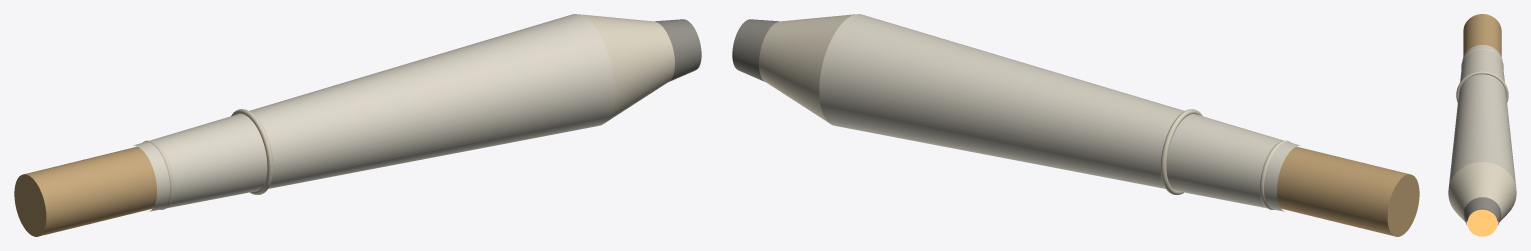
File: joint.glb
3 renders of one model, left to right at view 1: azimuth 30°, elevation 25°; view 2: azimuth 150°, elevation 25°; view 3: azimuth 270°, elevation 25°, orthographic. The views are drawn at different scales.
Visible parts, largest first — view 1: cone, crutch, twist, burnt_tip, crutch_end, paper_seam; view 2: cone, crutch, twist, burnt_tip, crutch_end, paper_seam; view 3: cone, twist, crutch, lit_tip_glow, burnt_tip, paper_seam, crutch_edge, lit_tip_rim.
Part boxes in pixels (x1=…): cone: x1=133, y1=14, x2=614, y2=211; crutch: x1=24, y1=146, x2=156, y2=235; twist: x1=579, y1=14, x2=674, y2=122; burnt_tip: x1=655, y1=19, x2=701, y2=81; crutch_end: x1=14, y1=174, x2=46, y2=236; paper_seam: x1=231, y1=109, x2=273, y2=194; cone: x1=819, y1=14, x2=1300, y2=211; crutch: x1=1277, y1=146, x2=1409, y2=235; twist: x1=759, y1=14, x2=854, y2=122; burnt_tip: x1=732, y1=19, x2=778, y2=81; crutch_end: x1=1387, y1=174, x2=1419, y2=236; paper_seam: x1=1160, y1=109, x2=1202, y2=194; cone: x1=1448, y1=45, x2=1516, y2=187; twist: x1=1448, y1=162, x2=1516, y2=222; crutch: x1=1463, y1=14, x2=1501, y2=56; lit_tip_glow: x1=1467, y1=209, x2=1497, y2=236; burnt_tip: x1=1463, y1=197, x2=1501, y2=224; paper_seam: x1=1456, y1=71, x2=1508, y2=102; crutch_edge: x1=1461, y1=48, x2=1503, y2=68; lit_tip_rim: x1=1467, y1=208, x2=1497, y2=221.
Bounding box in the file's own units: 0.0902 × 0.0136 × 0.0136.
